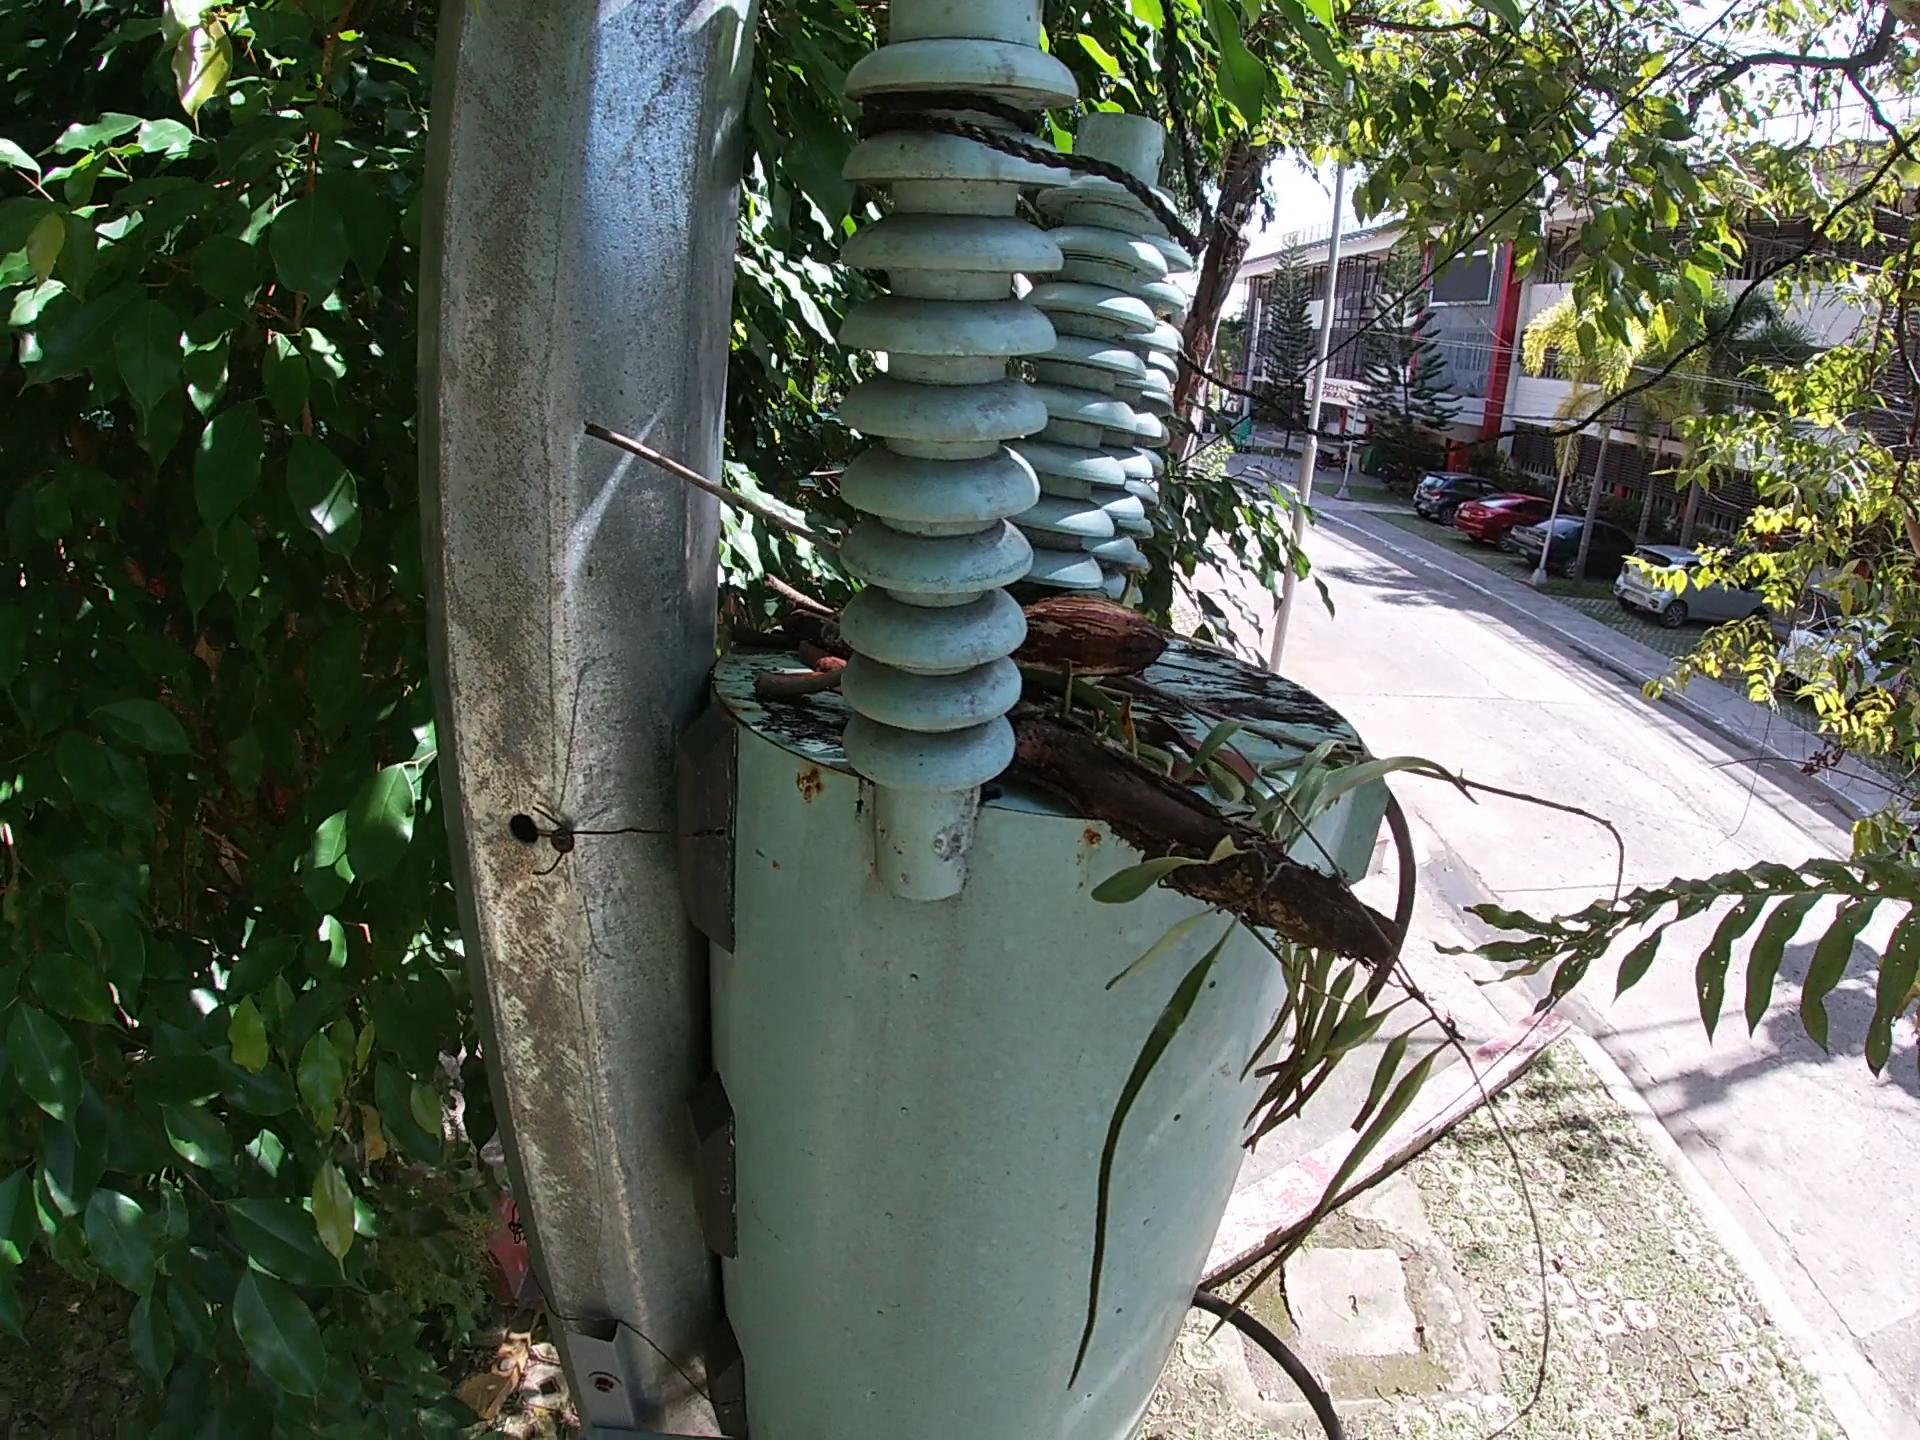branch with leaves: (963, 601, 1426, 1038)
leaf: (1190, 702, 1268, 864)
mahogany fruit: (974, 602, 1070, 712)
tree branch: (578, 414, 1739, 951), (1128, 613, 1380, 734)
